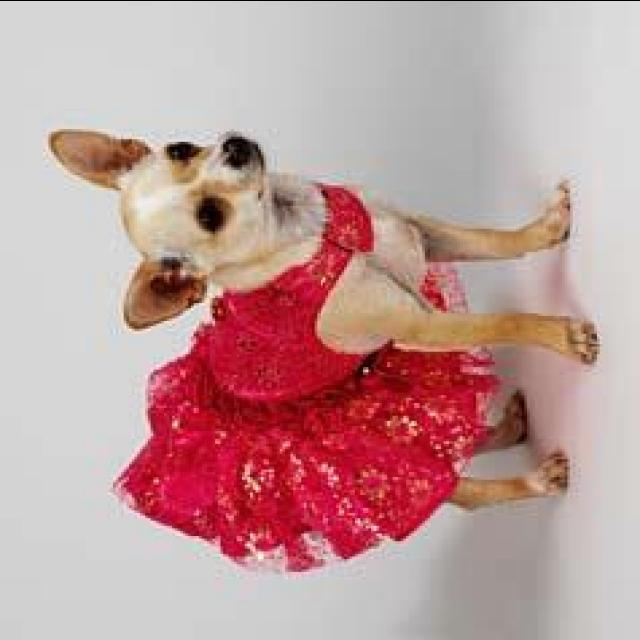chihuahua: (40, 123, 602, 563)
